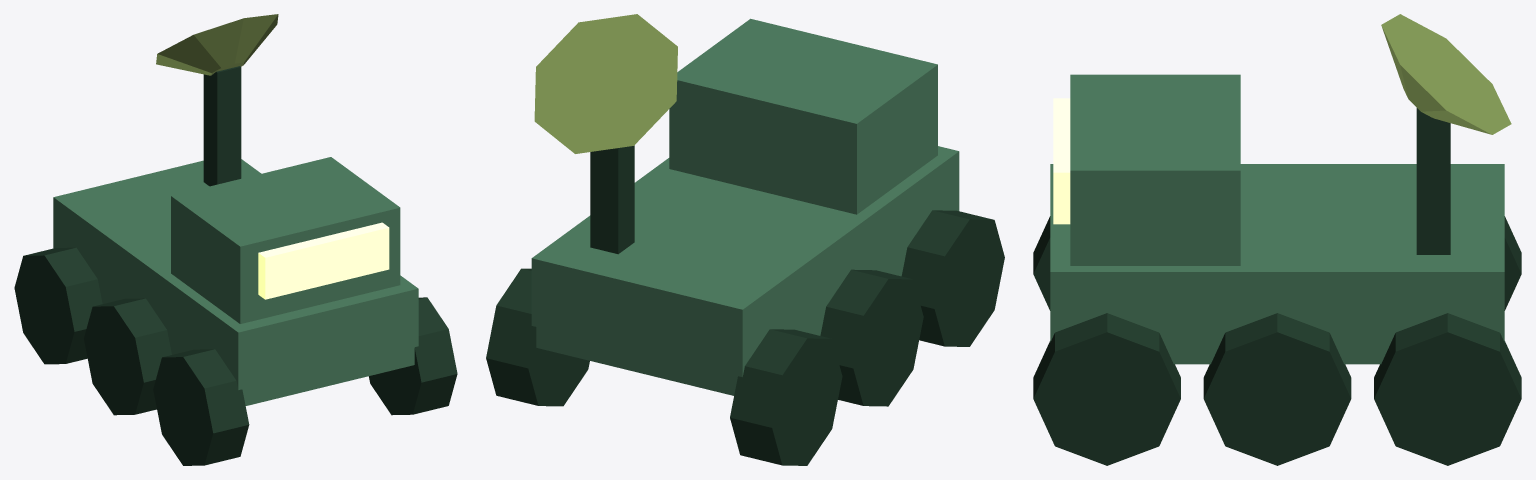
Rendered from rover.glb.
The picture shows the model from 3 angles, left to right: view 1: azimuth 30°, elevation 25°; view 2: azimuth 150°, elevation 25°; view 3: azimuth 270°, elevation 25°; orthographic projection. The views are drawn at different scales.
Visible parts, largest first — view 1: Body, Cab, W0, W4, W2, Screen, W1, Mast, MiniDish; view 2: Body, Cab, MiniDish, W4, W0, W2, W5, Mast; view 3: Body, Cab, W1, W5, W3, MiniDish, Mast, Screen, W0, W4.
Part boxes in pixels (x1=…): Body: x1=53, y1=159, x2=418, y2=405; Cab: x1=171, y1=157, x2=400, y2=323; W0: x1=153, y1=349, x2=249, y2=465; W4: x1=14, y1=247, x2=102, y2=364; W2: x1=84, y1=298, x2=171, y2=415; Screen: x1=258, y1=222, x2=389, y2=299; W1: x1=369, y1=297, x2=457, y2=415; Mast: x1=203, y1=66, x2=241, y2=186; MiniDish: x1=156, y1=14, x2=278, y2=75; Body: x1=531, y1=146, x2=959, y2=395; Cab: x1=669, y1=18, x2=937, y2=214; MiniDish: x1=534, y1=14, x2=677, y2=153; W4: x1=730, y1=329, x2=842, y2=465; W0: x1=901, y1=210, x2=1004, y2=346; W2: x1=820, y1=269, x2=923, y2=406; W5: x1=486, y1=268, x2=589, y2=406; Mast: x1=590, y1=145, x2=634, y2=254; Body: x1=1050, y1=164, x2=1504, y2=364; Cab: x1=1070, y1=74, x2=1240, y2=265; W1: x1=1033, y1=313, x2=1180, y2=465; W5: x1=1374, y1=313, x2=1521, y2=465; W3: x1=1203, y1=313, x2=1351, y2=465; MiniDish: x1=1381, y1=14, x2=1511, y2=134; Mast: x1=1416, y1=108, x2=1450, y2=254; Screen: x1=1053, y1=98, x2=1070, y2=224; W0: x1=1033, y1=216, x2=1050, y2=310; W4: x1=1504, y1=216, x2=1521, y2=310.
Size of the model in its own units: 1.22 by 1.55 by 1.72.
